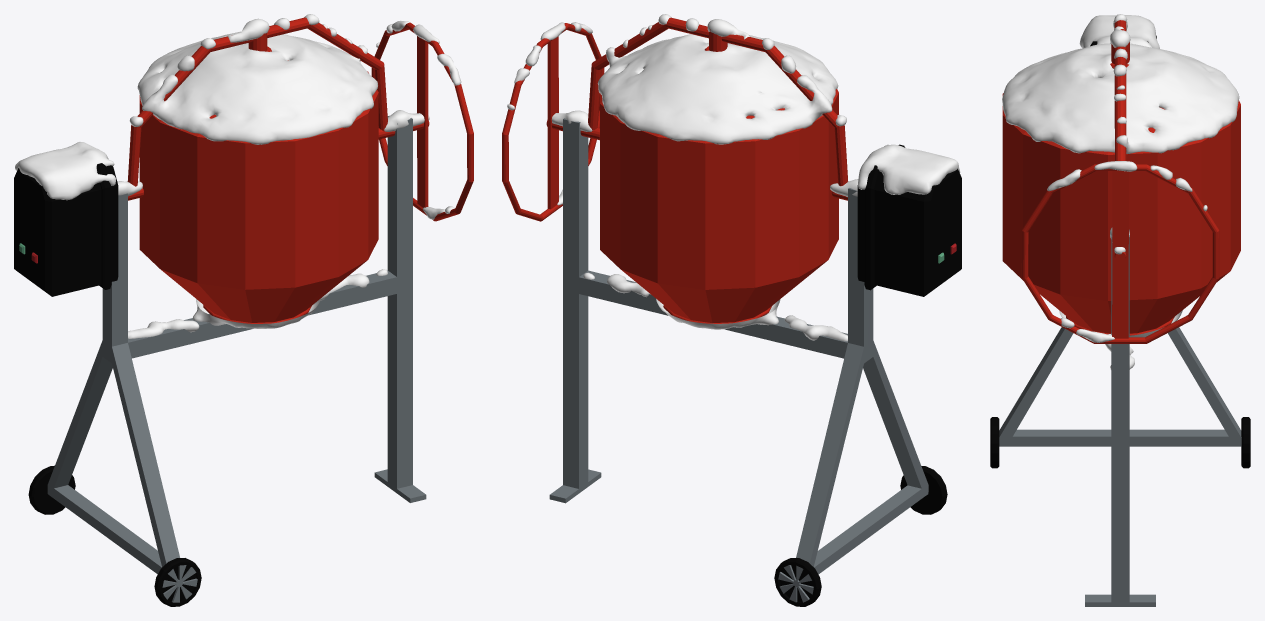
The model's file is CementMixerSNOW.fbx.
3 views of the same model, side by side, from view 1: azimuth 30°, elevation 25°; view 2: azimuth 150°, elevation 25°; view 3: azimuth 270°, elevation 25° (orthographic).
Visible parts, largest first — view 1: Cube, SnowBall.001; view 2: Cube, SnowBall.001; view 3: Cube, SnowBall.001.
Part boxes in pixels (x1=…): Cube: x1=14, y1=17, x2=473, y2=606; SnowBall.001: x1=15, y1=14, x2=461, y2=338; Cube: x1=502, y1=17, x2=961, y2=606; SnowBall.001: x1=507, y1=14, x2=960, y2=341; Cube: x1=990, y1=20, x2=1250, y2=606; SnowBall.001: x1=1002, y1=14, x2=1239, y2=369.
Bounding box in the file's own units: 170 × 204 × 95.54.
